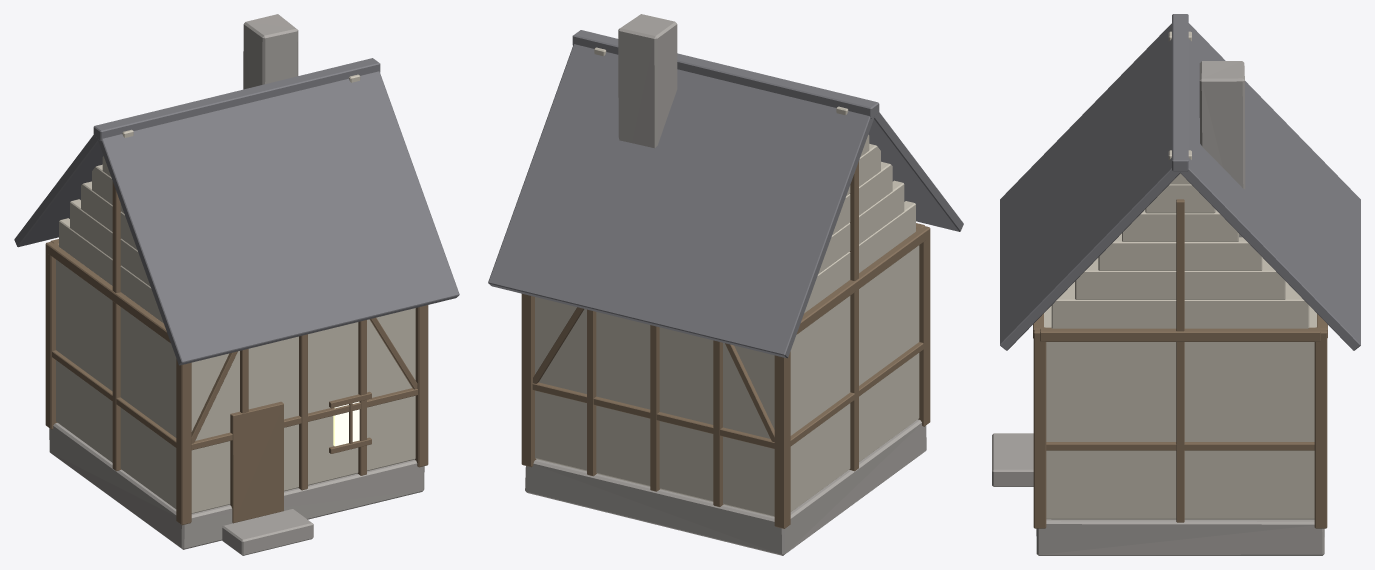
Rendered from house_b.glb.
3 renders of one model, left to right at view 1: azimuth 30°, elevation 25°; view 2: azimuth 150°, elevation 25°; view 3: azimuth 270°, elevation 25°, orthographic. The views are drawn at different scales.
Visible parts, largest first — view 1: roof, plaster, wood, stone, glow; view 2: roof, plaster, wood, stone; view 3: plaster, roof, stone, wood.
Boxes of the visible parts, left/top/right/bottom form: roof: left=14, top=58, right=459, bottom=365; plaster: left=56, top=74, right=415, bottom=513; wood: left=45, top=181, right=428, bottom=525; stone: left=49, top=14, right=424, bottom=555; glow: left=333, top=401, right=359, bottom=446; roof: left=488, top=30, right=963, bottom=358; plaster: left=535, top=47, right=919, bottom=516; wood: left=521, top=161, right=930, bottom=528; stone: left=525, top=14, right=926, bottom=555; plaster: left=1044, top=31, right=1316, bottom=519; roof: left=1000, top=14, right=1360, bottom=350; stone: left=992, top=61, right=1324, bottom=555; wood: left=1033, top=199, right=1327, bottom=528.
Size of the model in its own units: 5.44 by 7.81 by 5.78.
